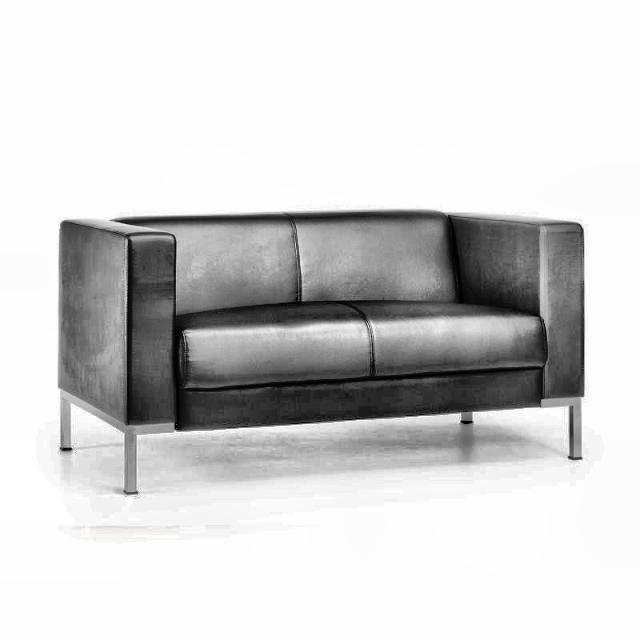sofa: (57, 208, 586, 494)
